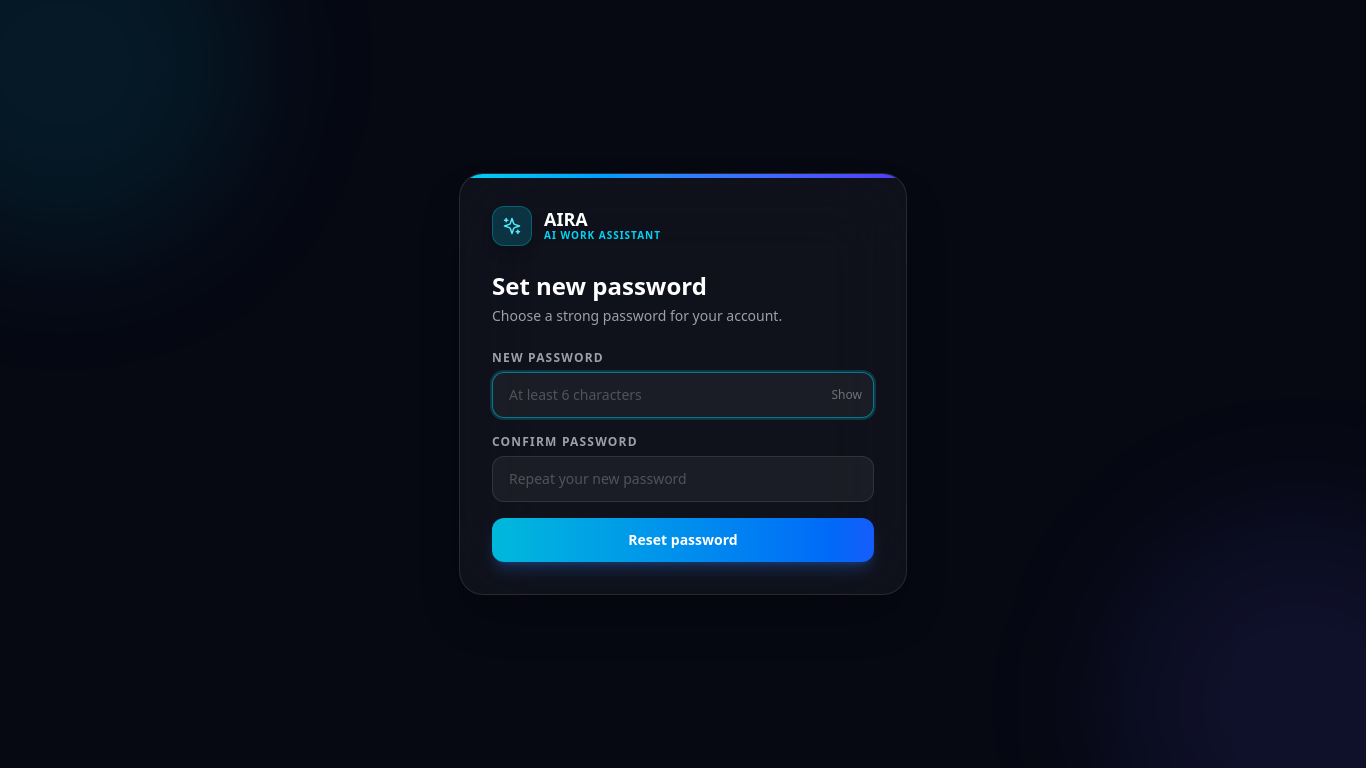
Test: Password Reset Frontend Suite (Phase 6B) › ResetPasswordPage › shows error and does NOT navigate when resetPassword API fails
Type "newSecurePassword123" into the password field with placeholder "At least 6 characters" at (683,395), box left=492, top=372, right=874, bottom=418
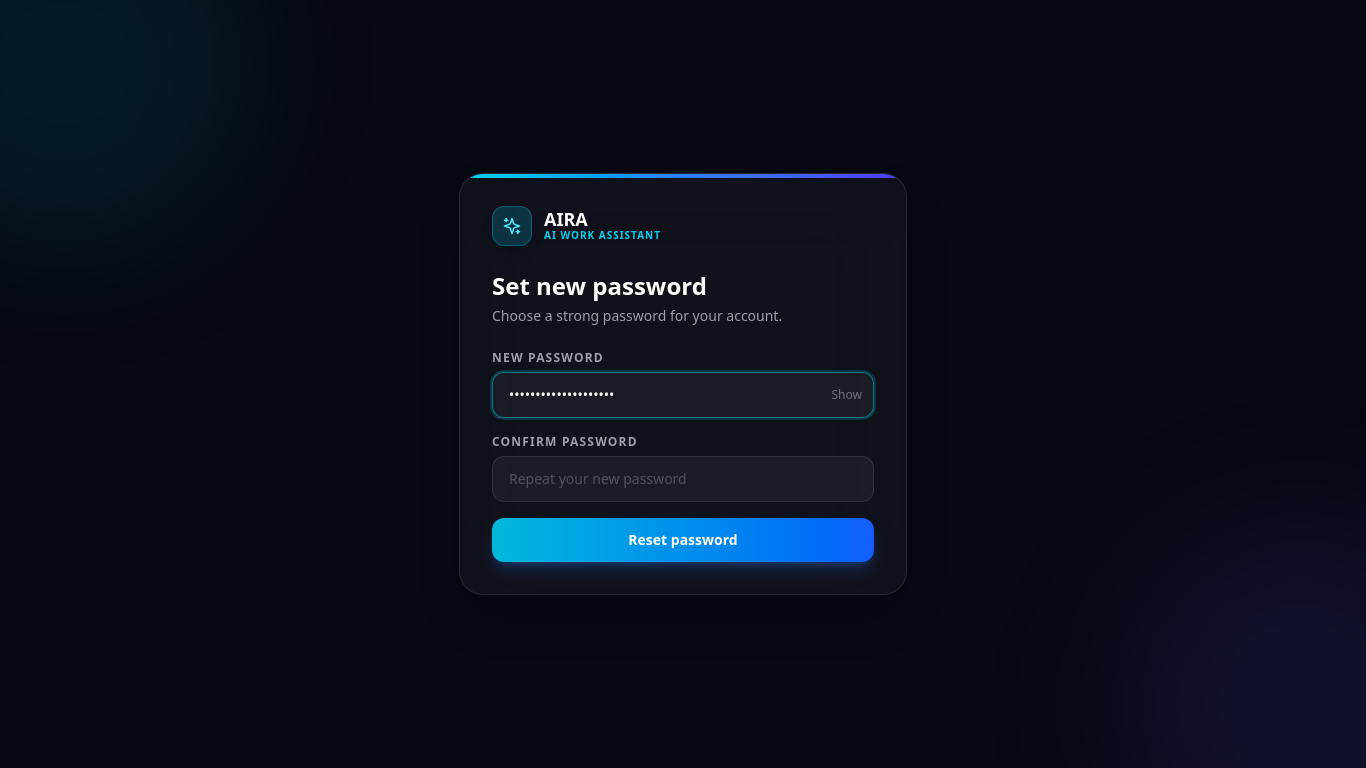
Type "newSecurePassword123" into the password field with placeholder "Repeat your new password" at (683,479), box left=492, top=456, right=874, bottom=502
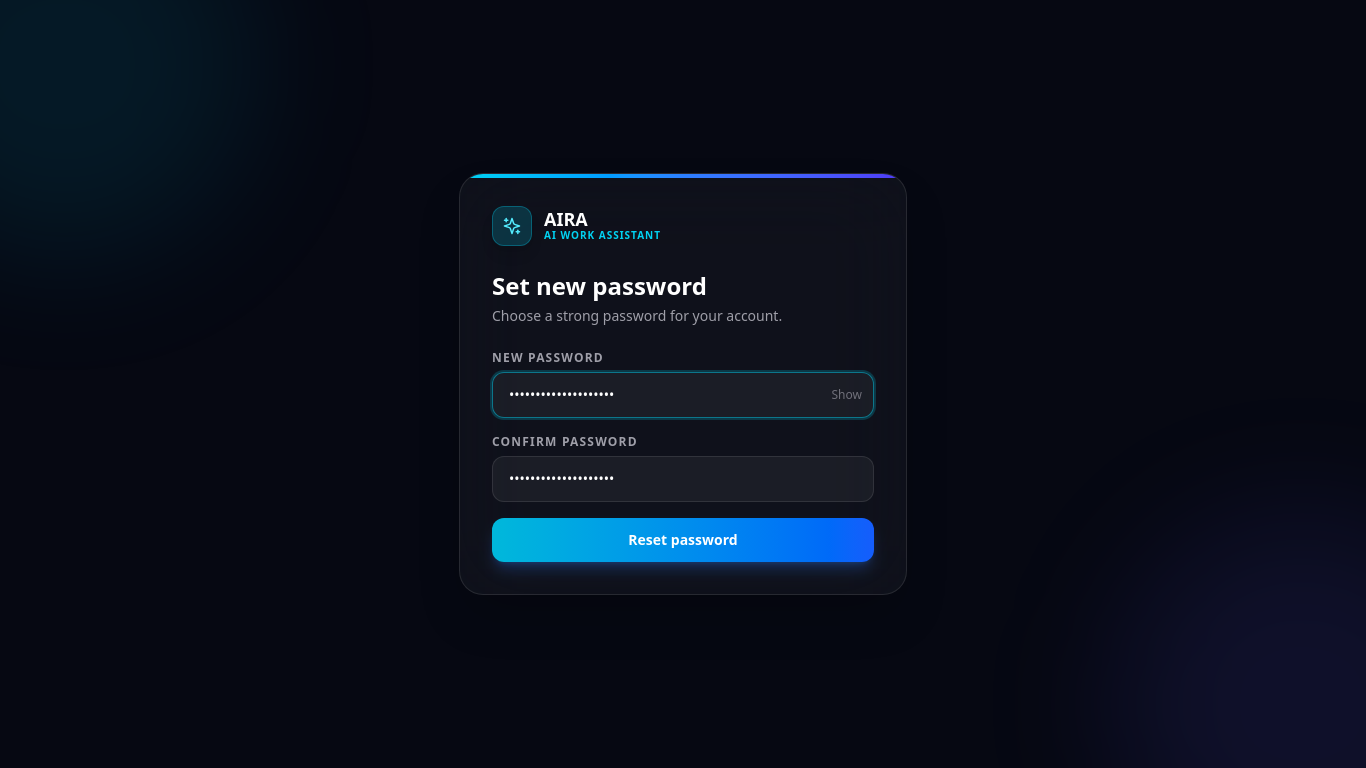
Click the button "Reset password" at (683,540), box left=492, top=518, right=874, bottom=562
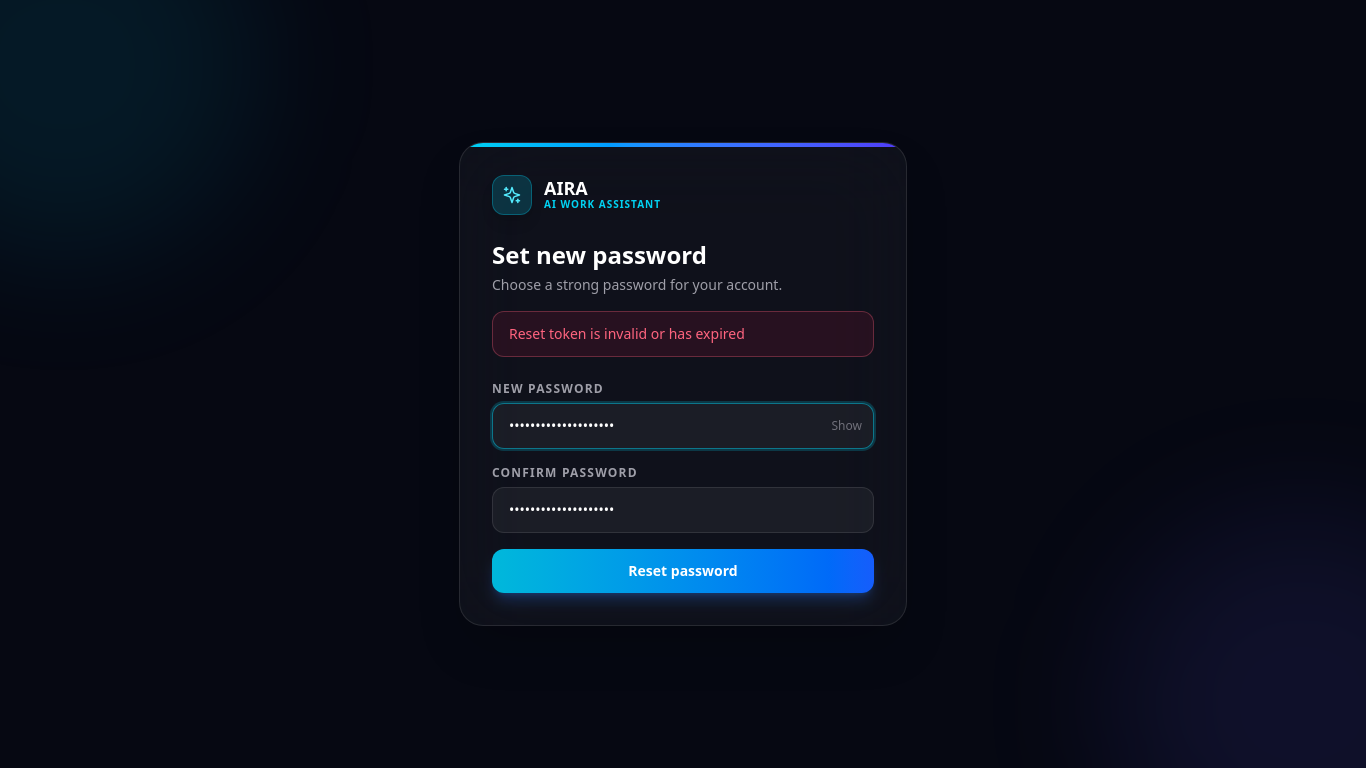
Expected: the text "Reset token is invalid or has expired" is shown, left=492, top=311, right=874, bottom=357
